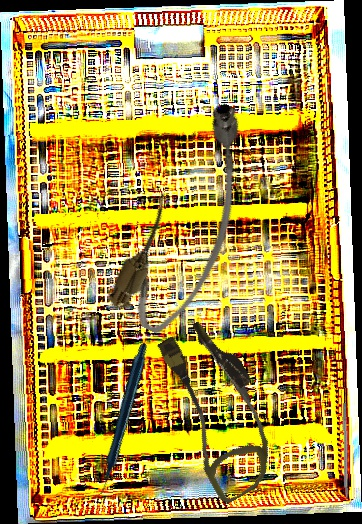Cannula: (101, 94, 282, 344), (137, 312, 300, 507)
Handpiece: (37, 342, 202, 499)
Hook Surgical: (342, 402, 349, 517)
